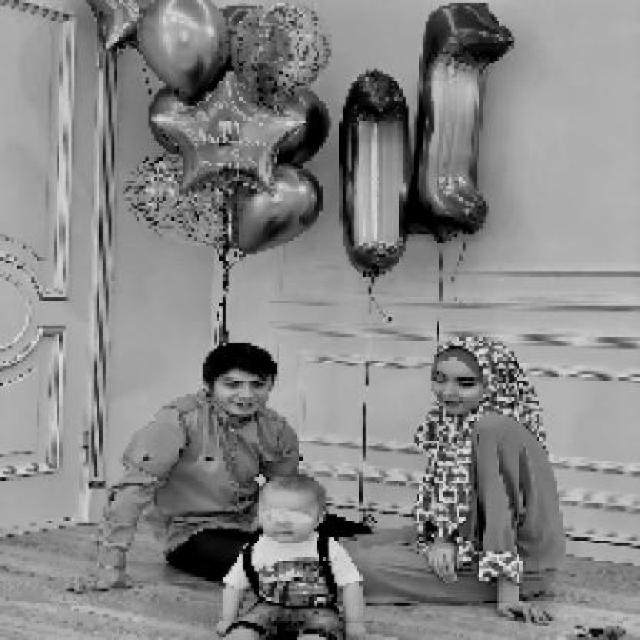child: (212, 472, 372, 638)
